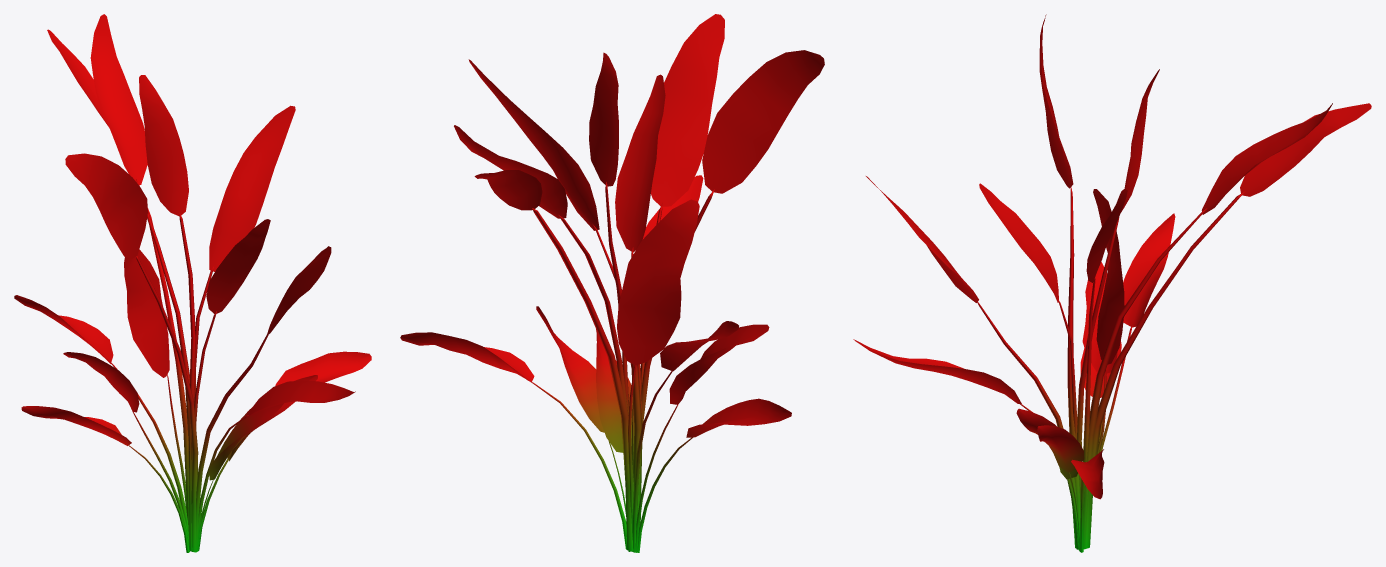
Rendered from Bird Of Paradise_LOD4_Var12_wfypeifha.fbx.
3 views of the same model, side by side, from view 1: azimuth 30°, elevation 25°; view 2: azimuth 150°, elevation 25°; view 3: azimuth 270°, elevation 25° (orthographic). The views are drawn at different scales.
Parts seen in each view (by area): view 1: _j2ro_Var12_LOD4; view 2: _j2ro_Var12_LOD4; view 3: _j2ro_Var12_LOD4.
Part boxes in pixels (x1,y1,x2,y2): _j2ro_Var12_LOD4: (14,14,371,552); _j2ro_Var12_LOD4: (400,14,824,552); _j2ro_Var12_LOD4: (853,14,1371,552).
Bounding box in the file's own units: 126 × 160 × 159.
